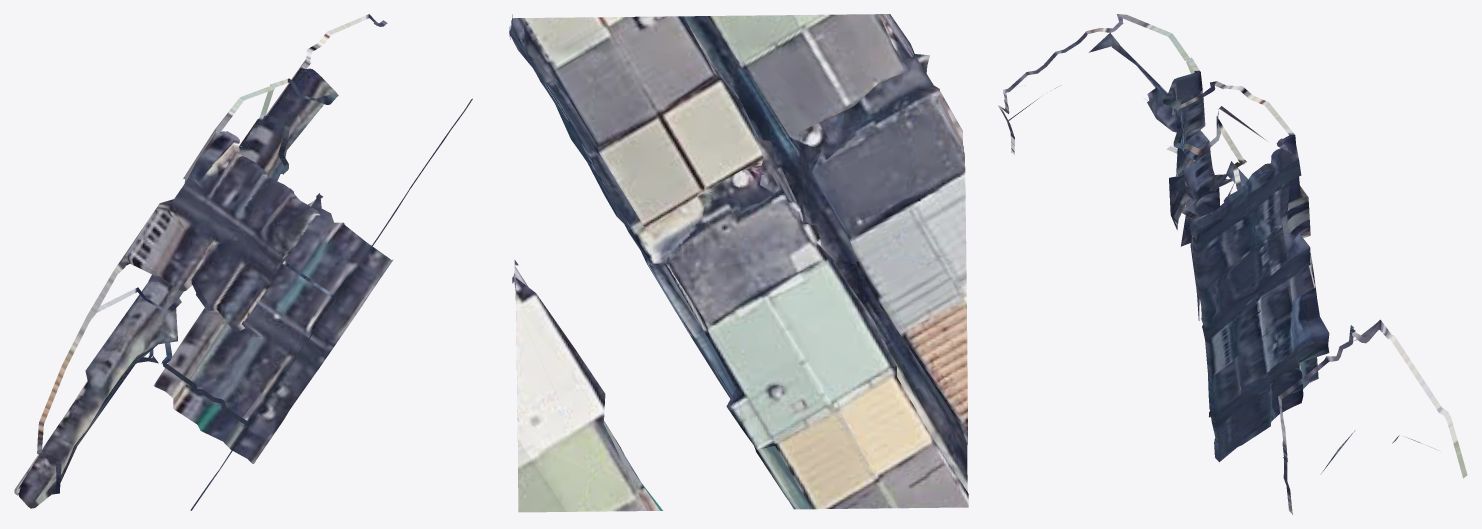
The picture shows the model from 3 angles, left to right: view 1: azimuth 30°, elevation 25°; view 2: azimuth 150°, elevation 25°; view 3: azimuth 270°, elevation 25°; orthographic projection. The views are drawn at different scales.
Size of the model in its own units: 43.18 by 40.12 by 38.4.
Materials: 2 (2 with a texture image).
